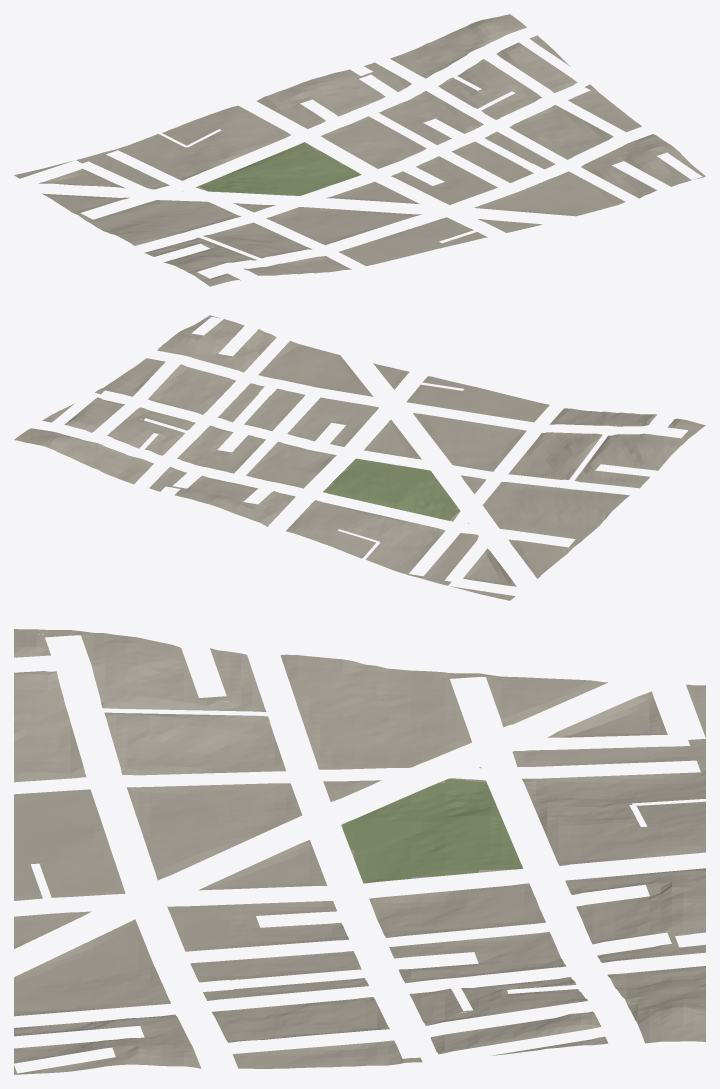
The picture shows the model from 3 angles, top to bottom: view 1: azimuth 30°, elevation 25°; view 2: azimuth 150°, elevation 25°; view 3: azimuth 270°, elevation 25°; orthographic projection. The views are drawn at different scales.
Parts seen in each view (by area): view 1: Interpolated ground, Approximate Washington Square lawn; view 2: Interpolated ground, Approximate Washington Square lawn; view 3: Interpolated ground, Approximate Washington Square lawn.
Part boxes in pixels (<box>): Interpolated ground: <box>14,14,705,286</box>; Approximate Washington Square lawn: <box>199,142,361,195</box>; Interpolated ground: <box>14,315,705,600</box>; Approximate Washington Square lawn: <box>323,458,459,520</box>; Interpolated ground: <box>14,629,705,1074</box>; Approximate Washington Square lawn: <box>343,778,523,883</box>.
Size of the model in its own units: 531 by 45.37 by 364.
